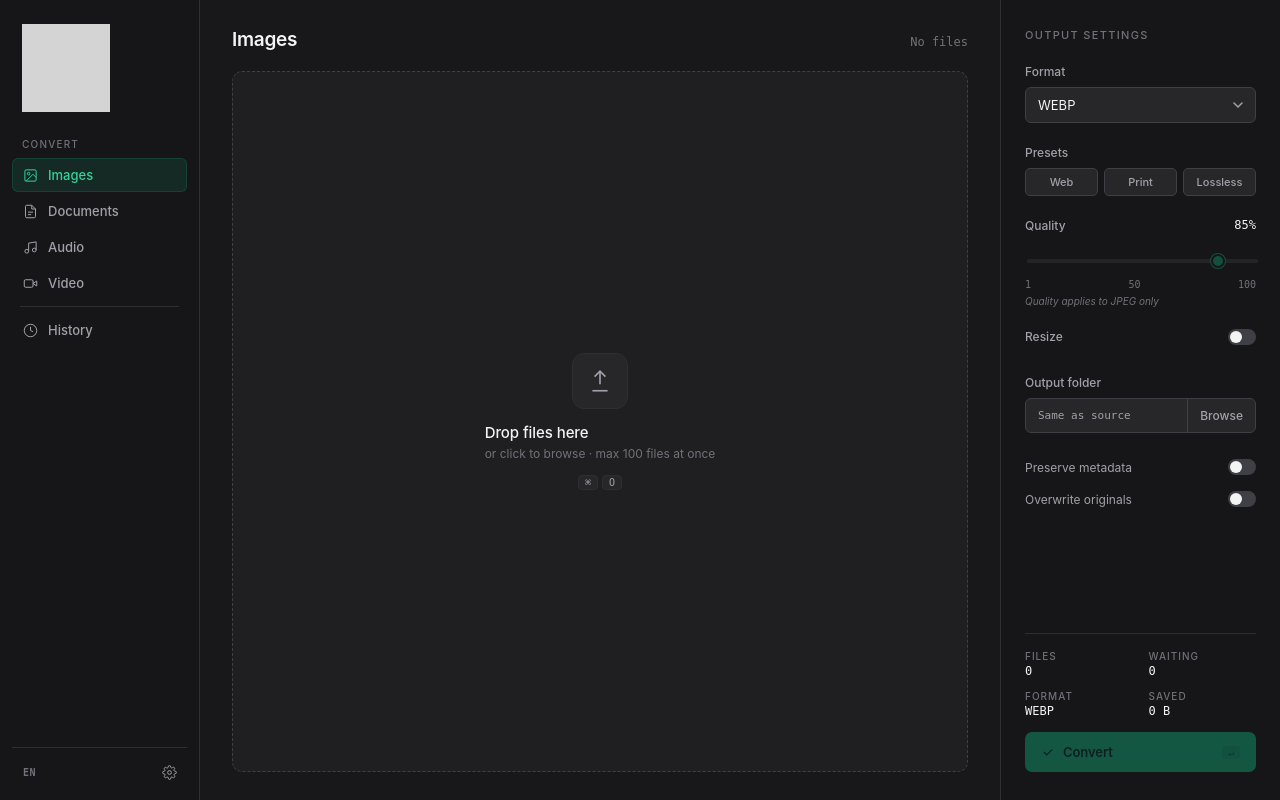
Test: App — category navigation › switches to Documents on nav click
What coordinates should you click on to do the following:
click the button with class "nav-item" showing "Documents"
I would click on:
 (71, 211)
Its box is [23,203,119,219].
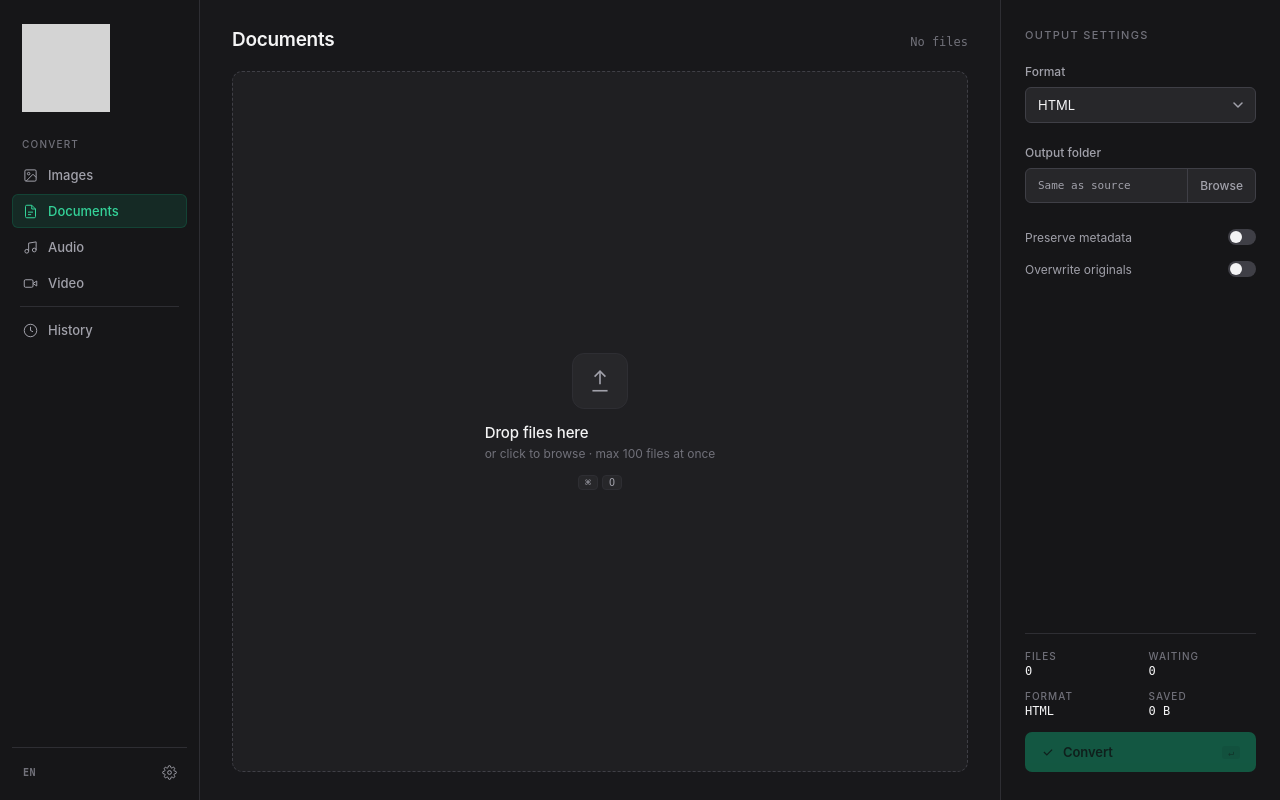
Now the text with class "main-title" reads "Documents", box [232,28,334,51]
